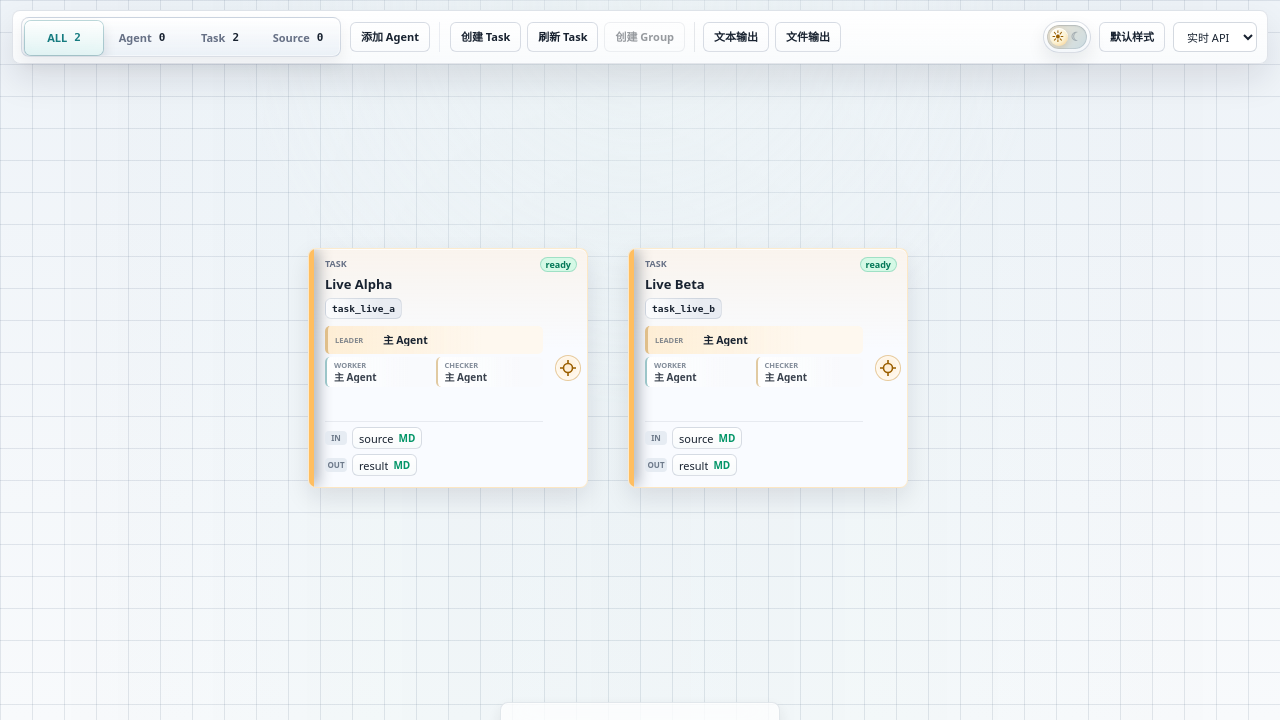
Test case: App › live Task Groups › creates a Live Task Group through the backend using real task ids
The width and height of the screenshot is (1280, 720).
Expected: the button "Live Alpha" is shown, [308,248,588,488]
Expected: the button "Live Beta" is shown, [628,248,908,488]
Press the mouse on the element with class "execution-map-container" at point(640, 360), box [0,0,1279,719]
Wait 201 ms
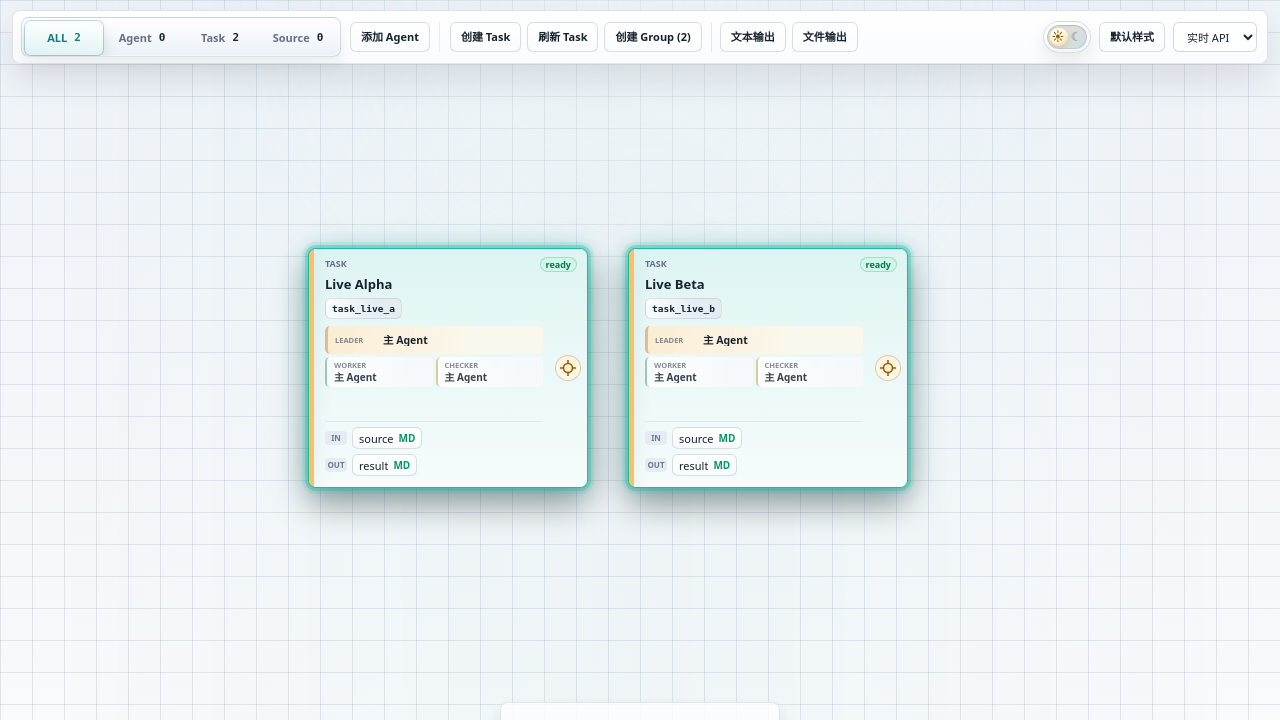
Click the button "创建 Group (2)" at point(653, 37), box [604,22,702,52]
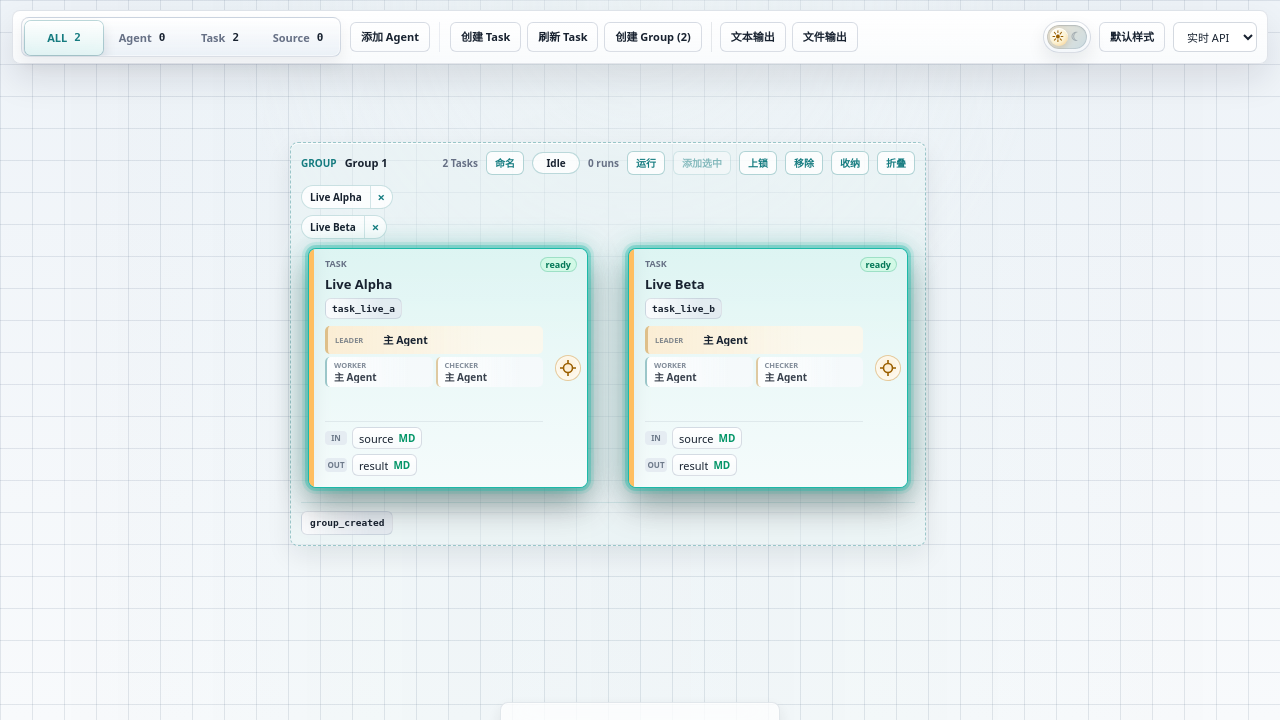
Result: the element "Group 1" is shown at [290,142,926,546]
